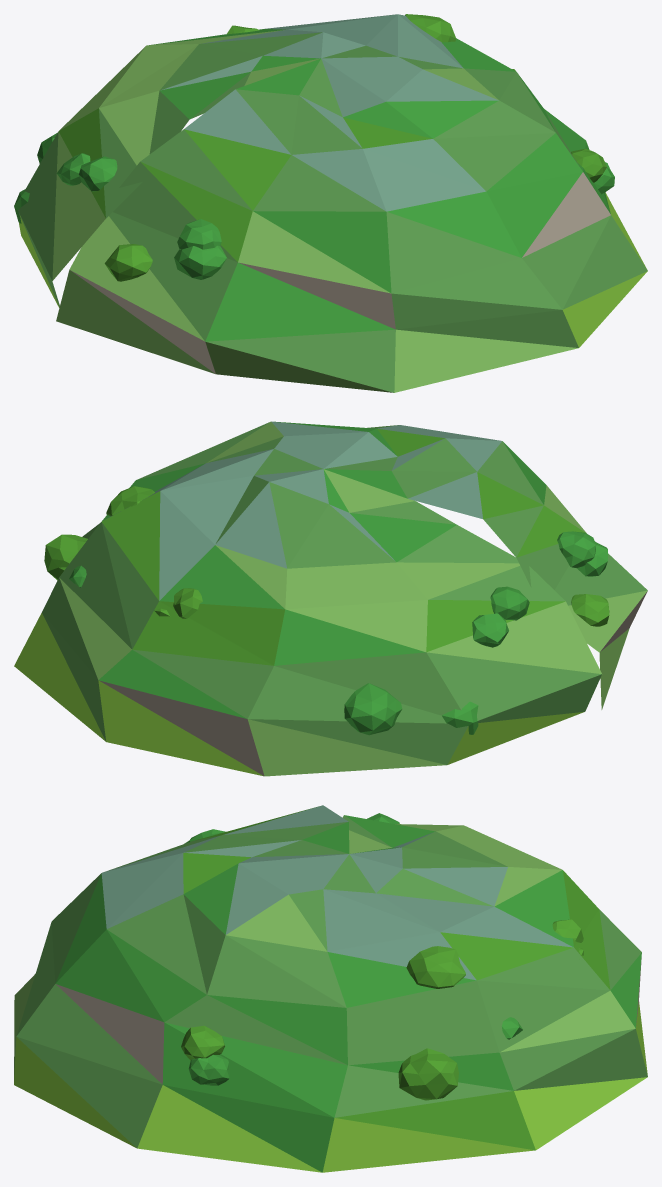
Rendered from cerro_serrania.glb.
The picture shows the model from 3 angles, top to bottom: view 1: azimuth 30°, elevation 25°; view 2: azimuth 150°, elevation 25°; view 3: azimuth 270°, elevation 25°; orthographic projection. The views are drawn at different scales.
Parts seen in each view (by area): view 1: montana_montana, montana_montana_claro, montana_mango_hoja, montana_montana_azul, montana_hoja_oscura, montana, montana_roca, montana_pasto; view 2: montana_montana, montana_montana_claro, montana_montana_azul, montana_hoja_oscura, montana_mango_hoja, montana_pasto, montana, montana_roca; view 3: montana_montana, montana_mango_hoja, montana_montana_azul, montana_pasto, montana_hoja_oscura, montana_montana_claro, montana, montana_roca.
Boxes of the visible parts, bbox=[...] form: montana_montana: bbox=[18, 32, 647, 392]; montana_montana_claro: bbox=[52, 30, 578, 392]; montana_mango_hoja: bbox=[149, 29, 610, 341]; montana_montana_azul: bbox=[161, 14, 498, 211]; montana_hoja_oscura: bbox=[58, 108, 432, 261]; montana: bbox=[14, 14, 614, 281]; montana_roca: bbox=[70, 172, 610, 373]; montana_pasto: bbox=[19, 192, 647, 347]; montana_montana: bbox=[42, 422, 647, 764]; montana_montana_claro: bbox=[59, 422, 647, 776]; montana_montana_azul: bbox=[107, 421, 501, 600]; montana_hoja_oscura: bbox=[101, 428, 585, 665]; montana_mango_hoja: bbox=[98, 421, 546, 718]; montana_pasto: bbox=[14, 613, 583, 776]; montana: bbox=[44, 486, 609, 735]; montana_roca: bbox=[99, 591, 647, 776]; montana_montana: bbox=[16, 815, 647, 1148]; montana_mango_hoja: bbox=[55, 815, 641, 1172]; montana_montana_azul: bbox=[101, 805, 573, 980]; montana_pasto: bbox=[14, 1002, 647, 1172]; montana_hoja_oscura: bbox=[183, 807, 610, 1150]; montana_montana_claro: bbox=[14, 824, 635, 1081]; montana: bbox=[181, 813, 583, 1100]; montana_roca: bbox=[56, 958, 641, 1084].
Size of the model in its own units: 48.89 by 16.07 by 49.24.
